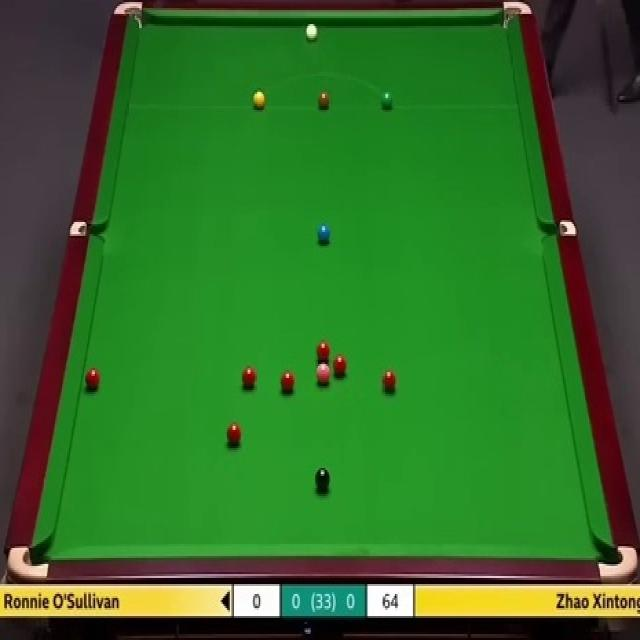black-ball: (316, 467, 332, 490)
blue-ball: (316, 222, 331, 244)
brown-ball: (317, 91, 331, 110)
green-ball: (381, 90, 394, 111)
pink-ball: (315, 362, 332, 387)
red-ball: (225, 421, 242, 446), (279, 370, 296, 394), (382, 371, 398, 395), (332, 354, 348, 378), (85, 368, 102, 390), (242, 366, 256, 390), (316, 340, 331, 361)
white-ball: (305, 21, 319, 41)
yellow-ball: (252, 88, 266, 109)
